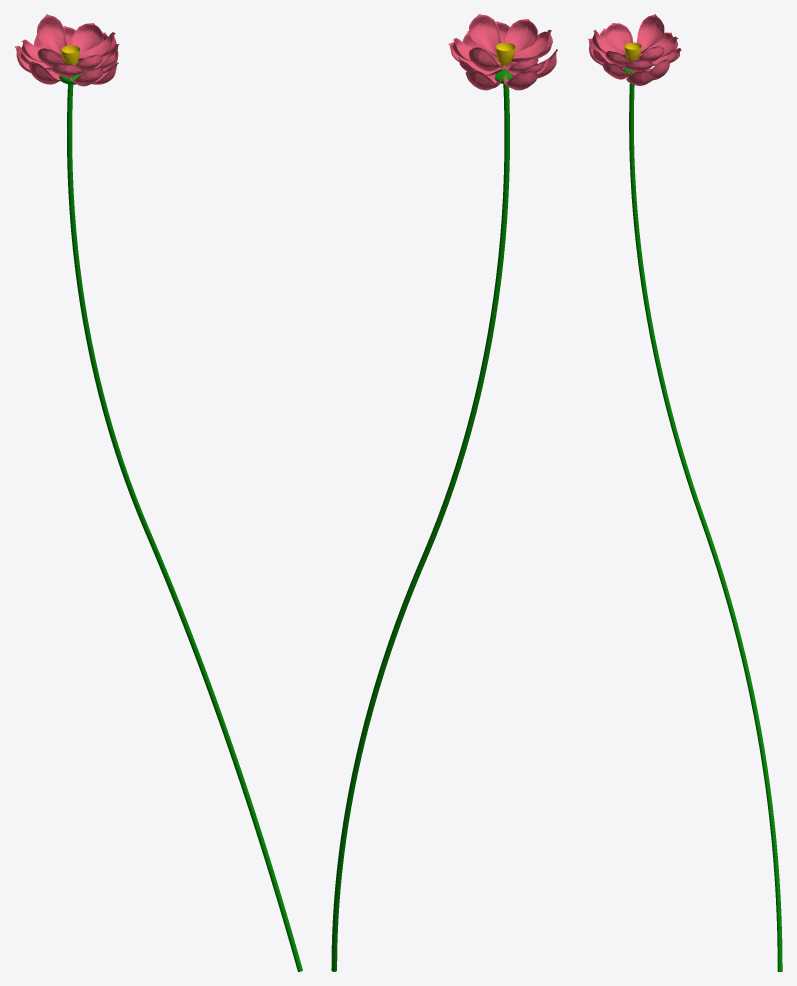
The model's file is Lotus072.fbx.
3 renders of one model, left to right at view 1: azimuth 30°, elevation 25°; view 2: azimuth 150°, elevation 25°; view 3: azimuth 330°, elevation 25°, orthographic. The views are drawn at different scales.
Parts seen in each view (by area): view 1: pCylinder5, nurbsToPoly23, nurbsToPoly19; view 2: pCylinder5, nurbsToPoly22, nurbsToPoly18, nurbsToPoly21, nurbsToPoly10, nurbsToPoly23; view 3: pCylinder5, nurbsToPoly23, nurbsToPoly20.
Part boxes in pixels (box(x1,y1,x2,y2)): pCylinder5: box(67, 84, 302, 971); nurbsToPoly23: box(37, 14, 67, 57); nurbsToPoly19: box(71, 23, 102, 53); pCylinder5: box(331, 84, 509, 971); nurbsToPoly22: box(469, 14, 501, 57); nurbsToPoly18: box(505, 19, 537, 53); nurbsToPoly21: box(511, 29, 552, 62); nurbsToPoly10: box(465, 69, 501, 90); nurbsToPoly23: box(469, 47, 501, 71); pCylinder5: box(629, 83, 782, 971); nurbsToPoly23: box(636, 14, 664, 53); nurbsToPoly20: box(604, 23, 633, 50).
Bounding box in the file's own units: 52.47 × 200 × 24.31.
